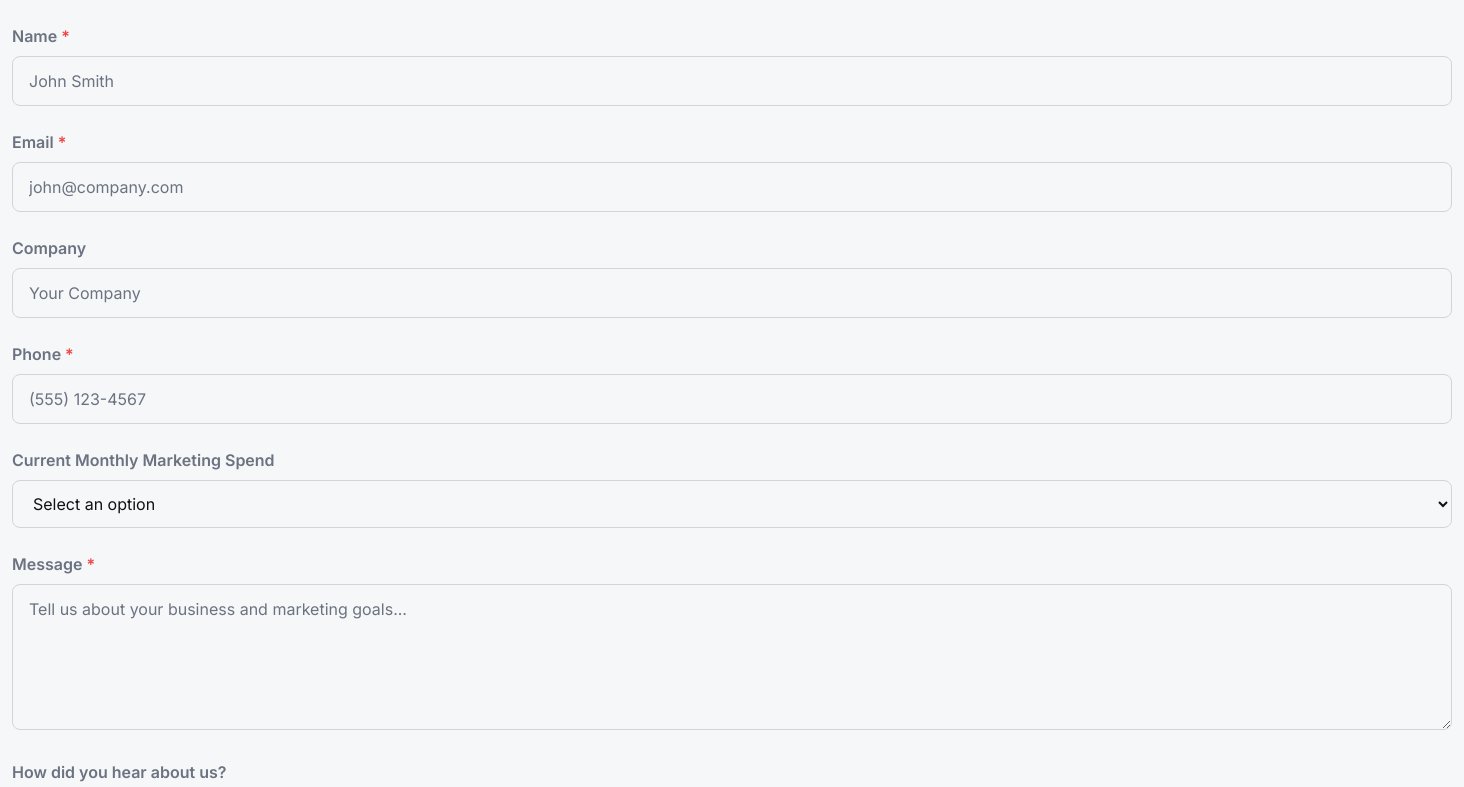
Scenario: ContactForm › shows validation error for invalid email
Type "invalid-email" into the field labelled "Email*" at (732, 187), box [12,162,1452,212]
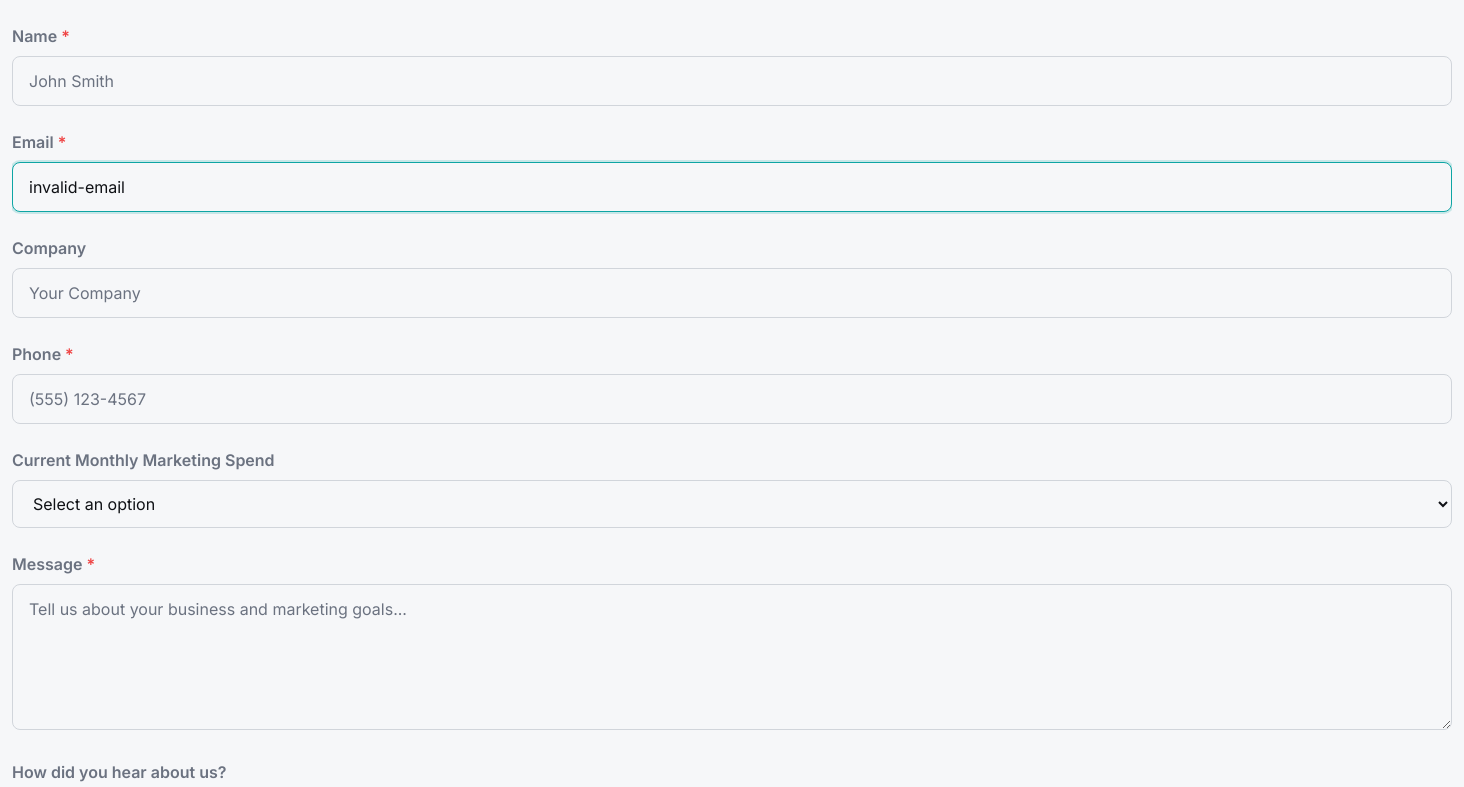
Press Tab
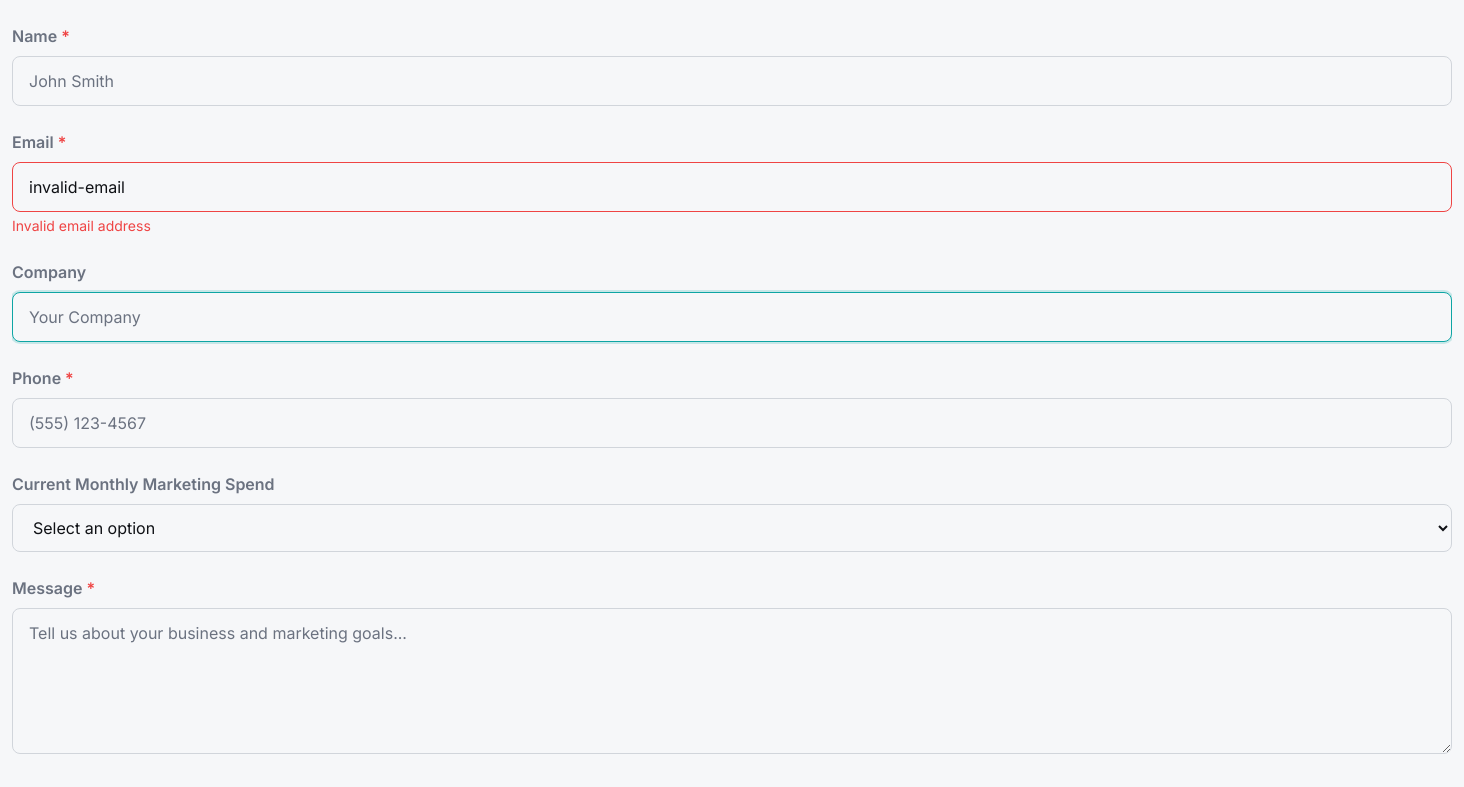
Expected: the text "Invalid email address" is shown, [12,217,151,234]
